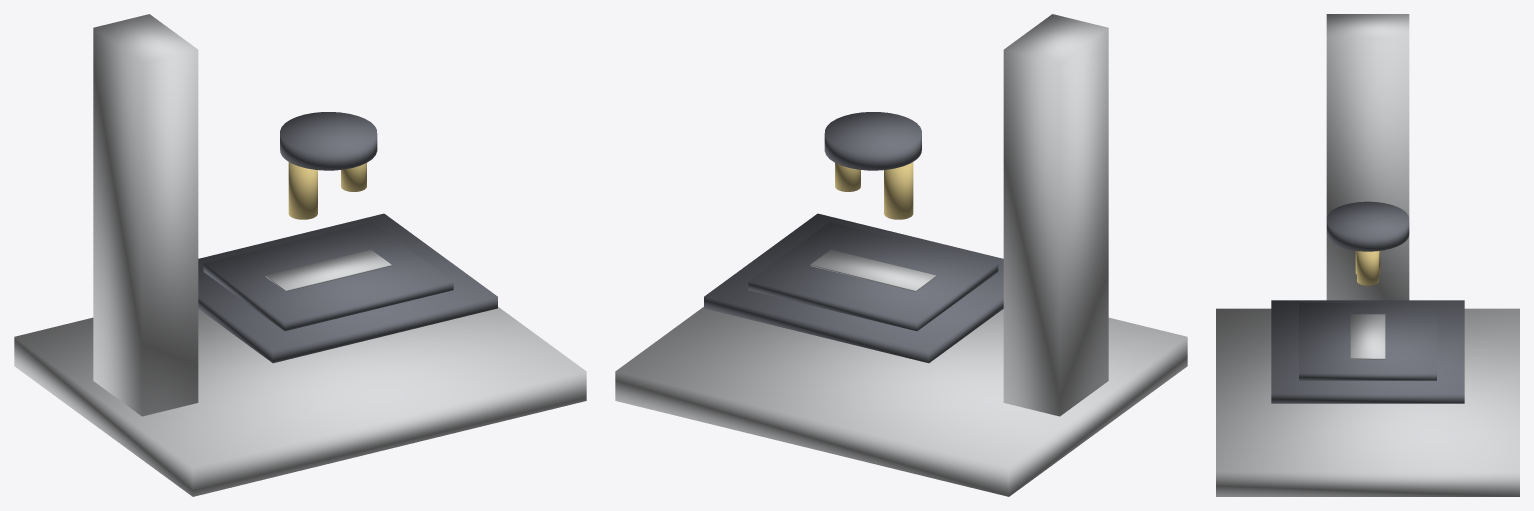
The model's file is scope.fixture.glb.
The picture shows the model from 3 angles, left to right: view 1: azimuth 30°, elevation 25°; view 2: azimuth 150°, elevation 25°; view 3: azimuth 270°, elevation 25°; orthographic projection. The views are drawn at different scales.
Parts seen in each view (by area): view 1: base, column, stage_y_carriage, stage_x_carriage, turret_disc, sample, objective_40x, objective_10x; view 2: base, column, stage_y_carriage, stage_x_carriage, turret_disc, sample, objective_40x, objective_10x; view 3: base, column, stage_x_carriage, stage_y_carriage, turret_disc, sample, objective_10x.
Boxes of the visible parts, box(x1,y1,x2,y2) form: base: box(14, 307, 586, 496); column: box(93, 14, 198, 416); stage_y_carriage: box(203, 222, 453, 331); stage_x_carriage: box(198, 213, 497, 363); turret_disc: box(280, 112, 377, 170); sample: box(265, 250, 391, 291); objective_40x: box(288, 162, 317, 219); objective_10x: box(341, 163, 366, 191); base: box(615, 307, 1187, 496); column: box(1003, 14, 1108, 416); stage_y_carriage: box(748, 222, 998, 331); stage_x_carriage: box(704, 213, 1003, 363); turret_disc: box(824, 112, 921, 170); sample: box(810, 250, 936, 291); objective_40x: box(884, 162, 913, 219); objective_10x: box(835, 163, 860, 191); base: box(1216, 308, 1519, 496); column: box(1326, 14, 1409, 300); stage_x_carriage: box(1271, 300, 1464, 403); stage_y_carriage: box(1299, 303, 1436, 380); turret_disc: box(1326, 201, 1409, 251); sample: box(1350, 314, 1385, 359); objective_10x: box(1357, 251, 1378, 285).
Bounding box in the file's own units: 0.28 × 0.26 × 0.22.
